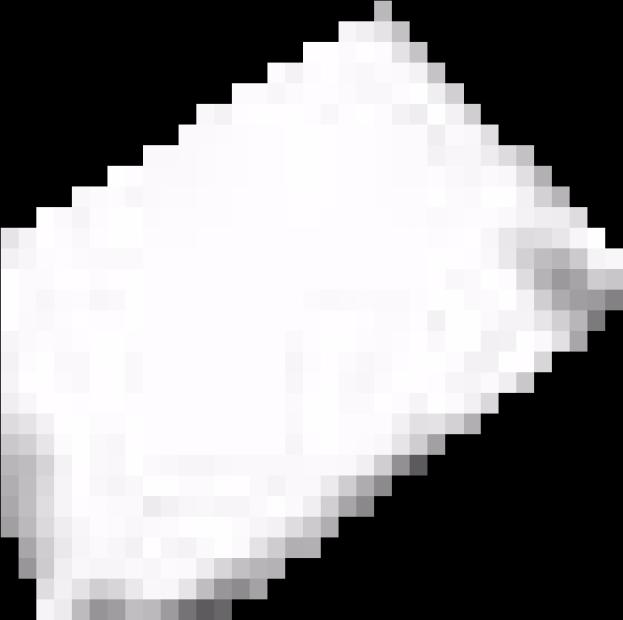tumor_good_chance: (1, 1, 623, 620)
